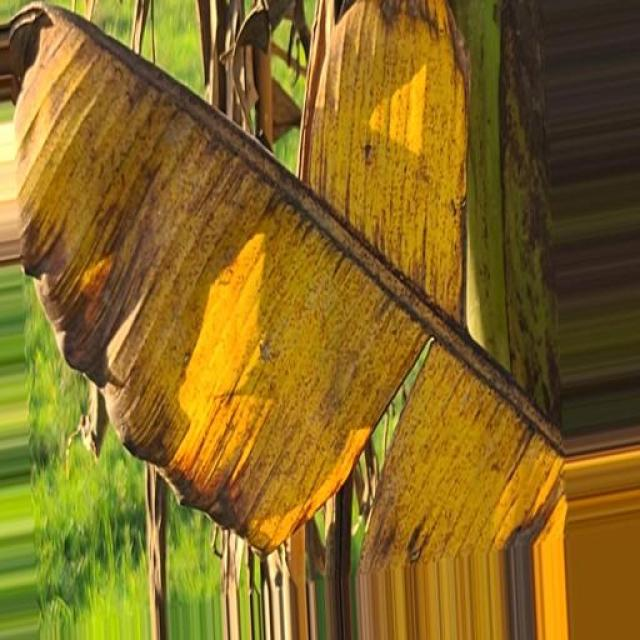Cordana: (0, 0, 581, 606)
